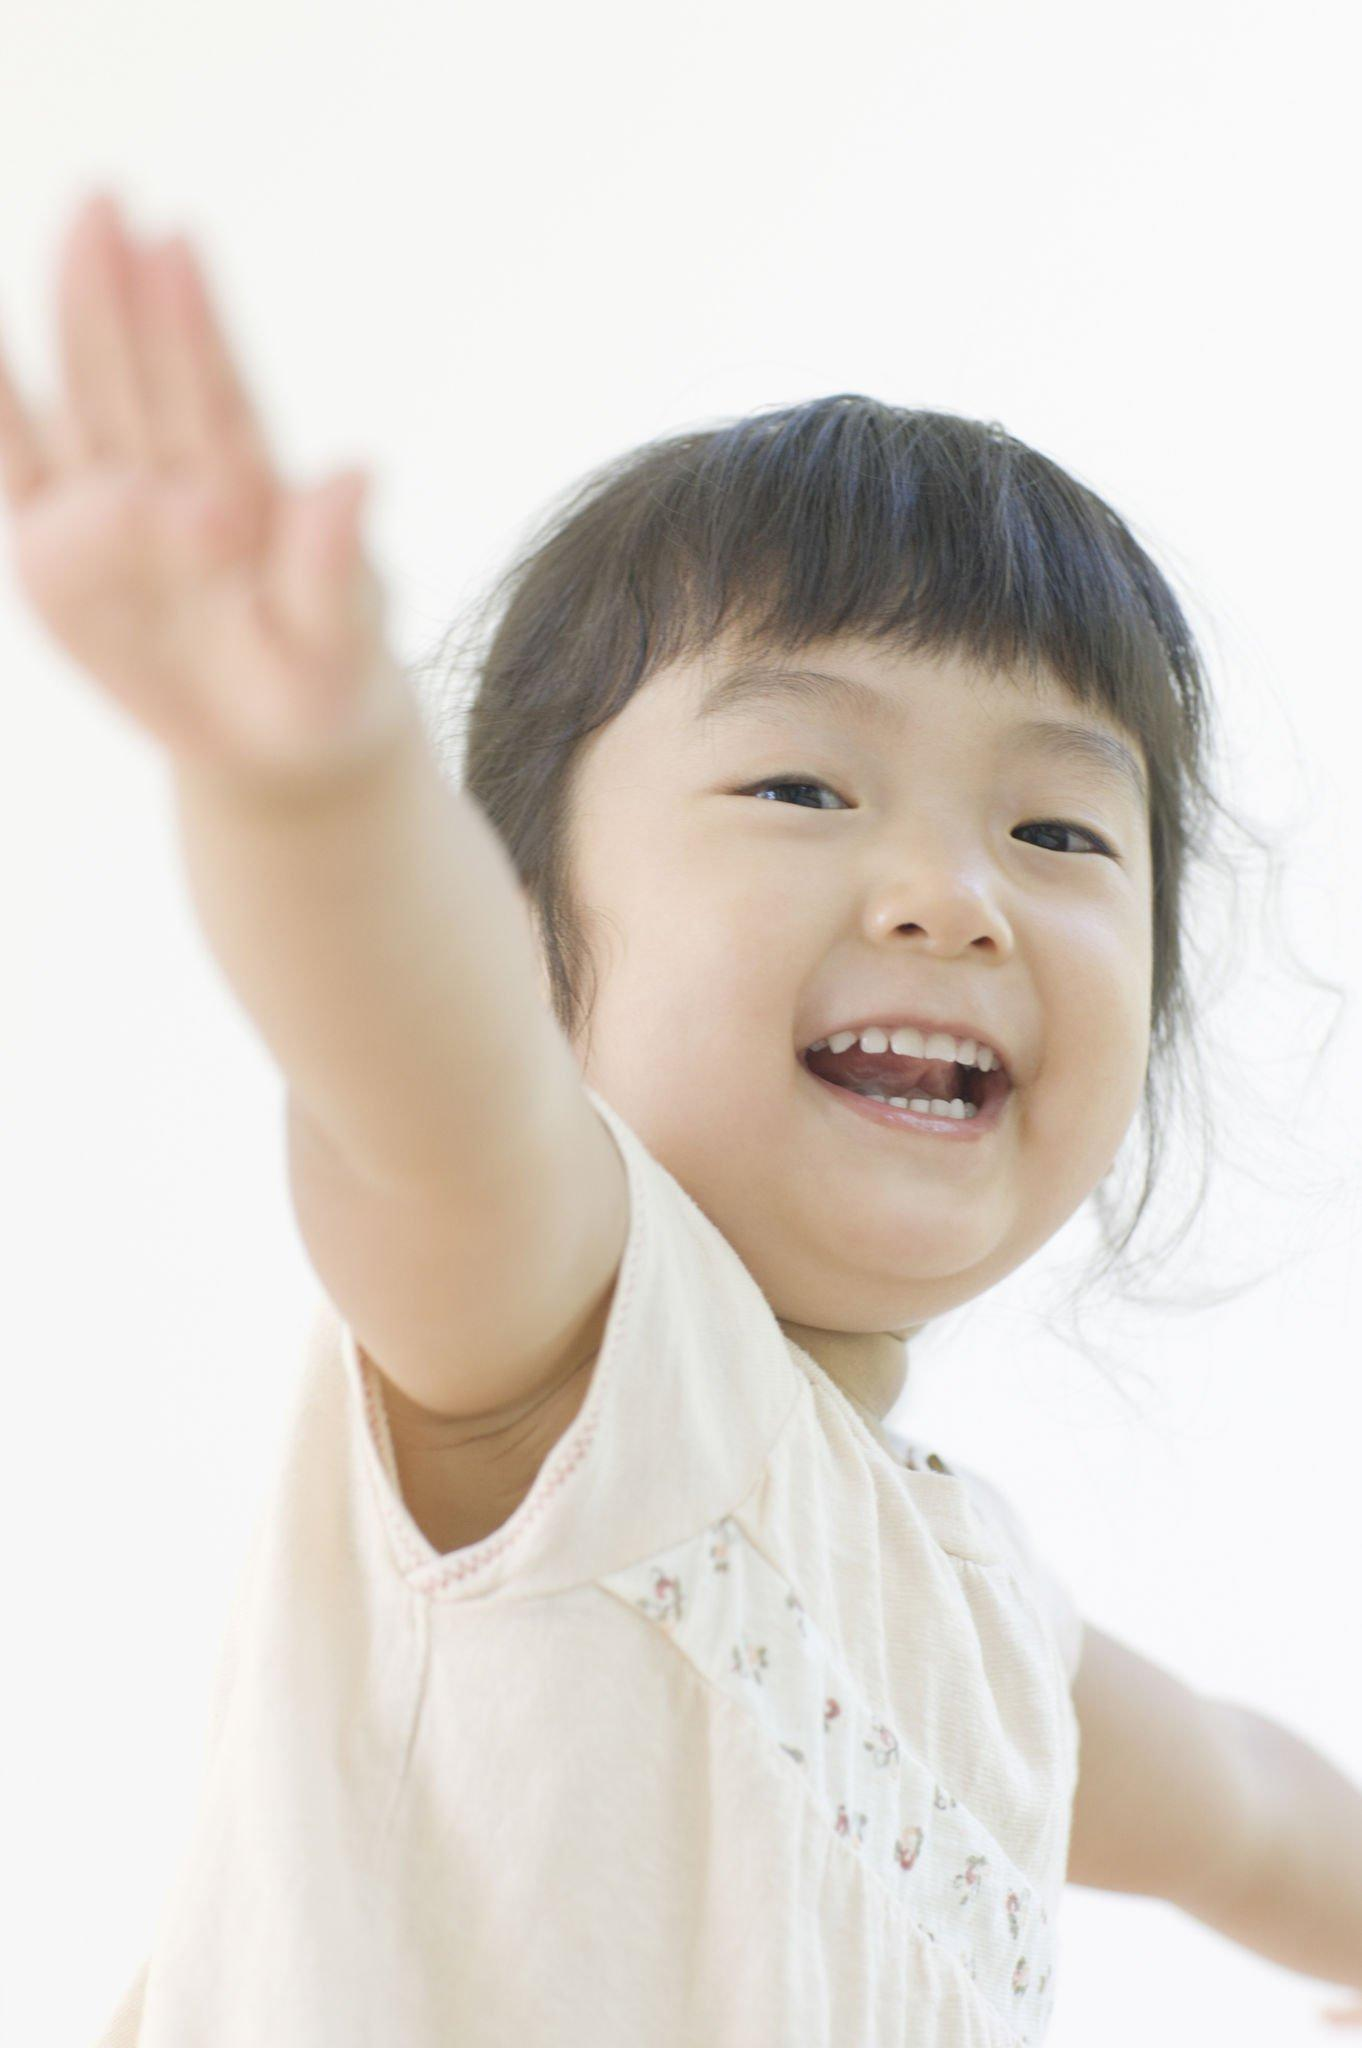Healthy: (556, 372, 1250, 1323)
